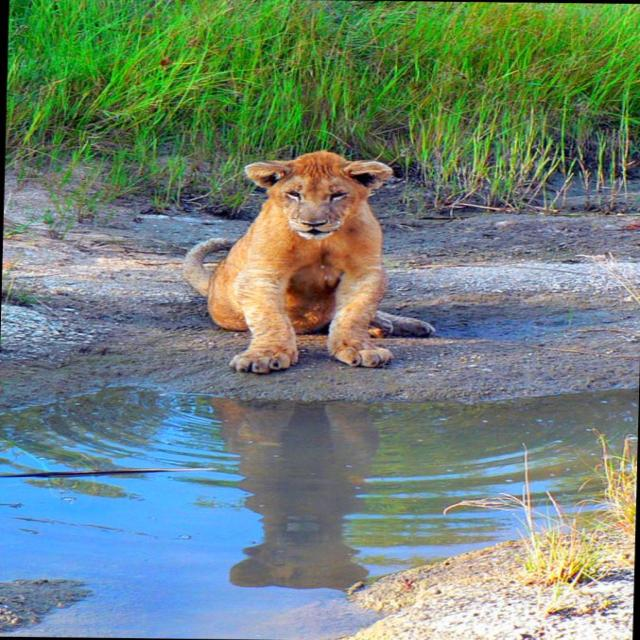Lion: (178, 148, 442, 376)
